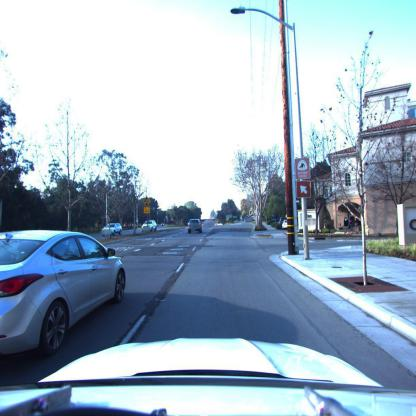car: (1, 229, 129, 362), (101, 223, 123, 236), (342, 214, 360, 227), (187, 219, 202, 234), (143, 221, 158, 232), (278, 216, 289, 230)
